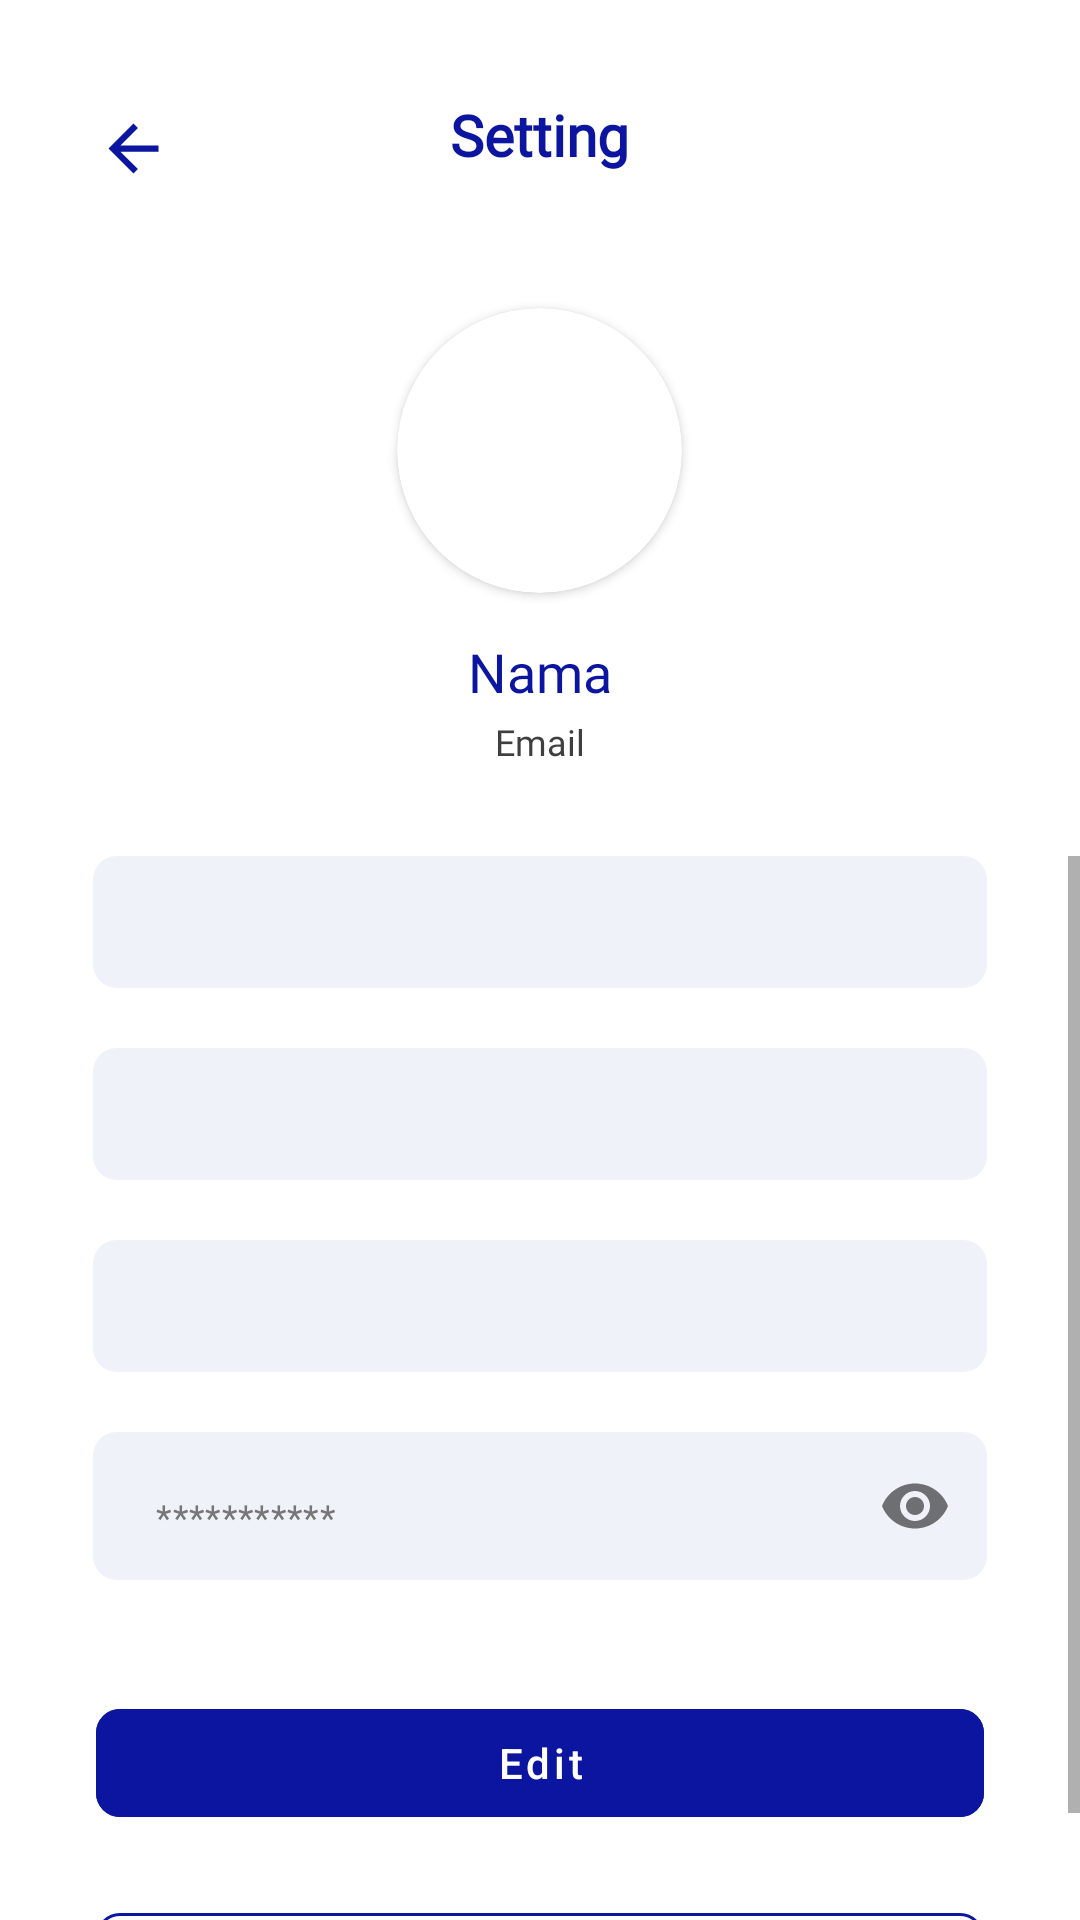

Icons on this 1080*1920 Android screen, each with its box as (x1, y1, x2, y2):
arrow backblue: (108, 123, 159, 174)
